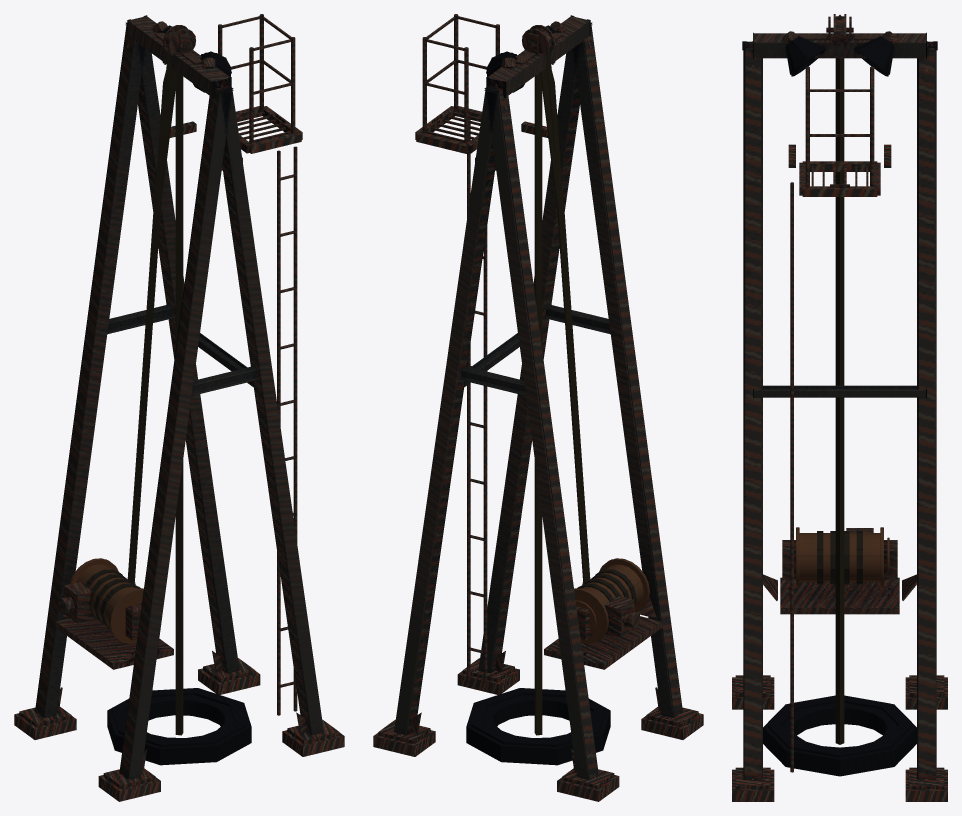
File: derrick.glb
3 renders of one model, left to right at view 1: azimuth 30°, elevation 25°; view 2: azimuth 150°, elevation 25°; view 3: azimuth 270°, elevation 25°, orthographic. The views are drawn at different scales.
Visible parts, largest first — view 1: LOD0_derrick, LOD2_derrick, LOD1_derrick, LOD2_cable, LOD0_drum, LOD0_cable, LOD1_cable; view 2: LOD0_derrick, LOD2_derrick, LOD1_derrick, LOD2_cable, LOD0_drum, LOD0_cable, LOD1_cable; view 3: LOD2_derrick, LOD0_derrick, LOD1_derrick, LOD2_cable, LOD0_drum, LOD0_cable, LOD1_cable, LOD1_lamp_L, LOD1_lamp_R, LOD0_lamp_R, LOD0_lamp_L, LOD1_drum.
Boxes of the visible parts, x1,y1,x2,y2 form: LOD0_derrick: (33, 14, 339, 788); LOD2_derrick: (35, 24, 310, 778); LOD1_derrick: (14, 16, 344, 801); LOD2_cable: (106, 28, 183, 735); LOD0_drum: (69, 558, 143, 643); LOD0_cable: (84, 28, 183, 628); LOD1_cable: (87, 28, 183, 629); LOD0_derrick: (378, 14, 691, 788); LOD2_derrick: (407, 24, 682, 778); LOD1_derrick: (373, 16, 703, 801); LOD2_cable: (534, 28, 614, 735); LOD0_drum: (574, 558, 649, 643); LOD0_cable: (534, 28, 636, 605); LOD1_cable: (534, 28, 632, 601); LOD2_derrick: (744, 41, 935, 779); LOD0_derrick: (735, 14, 944, 781); LOD1_derrick: (732, 17, 947, 801); LOD2_cable: (835, 17, 844, 744); LOD0_drum: (796, 527, 889, 587); LOD0_cable: (817, 15, 862, 584); LOD1_cable: (817, 17, 862, 582); LOD1_lamp_L: (853, 31, 897, 74); LOD1_lamp_R: (782, 31, 826, 74); LOD0_lamp_R: (788, 32, 826, 76); LOD0_lamp_L: (853, 32, 891, 76); LOD1_drum: (796, 539, 883, 587).
Size of the model in its own units: 2.16 by 6.49 by 1.74.
Materials: 6 (6 with a texture image).
